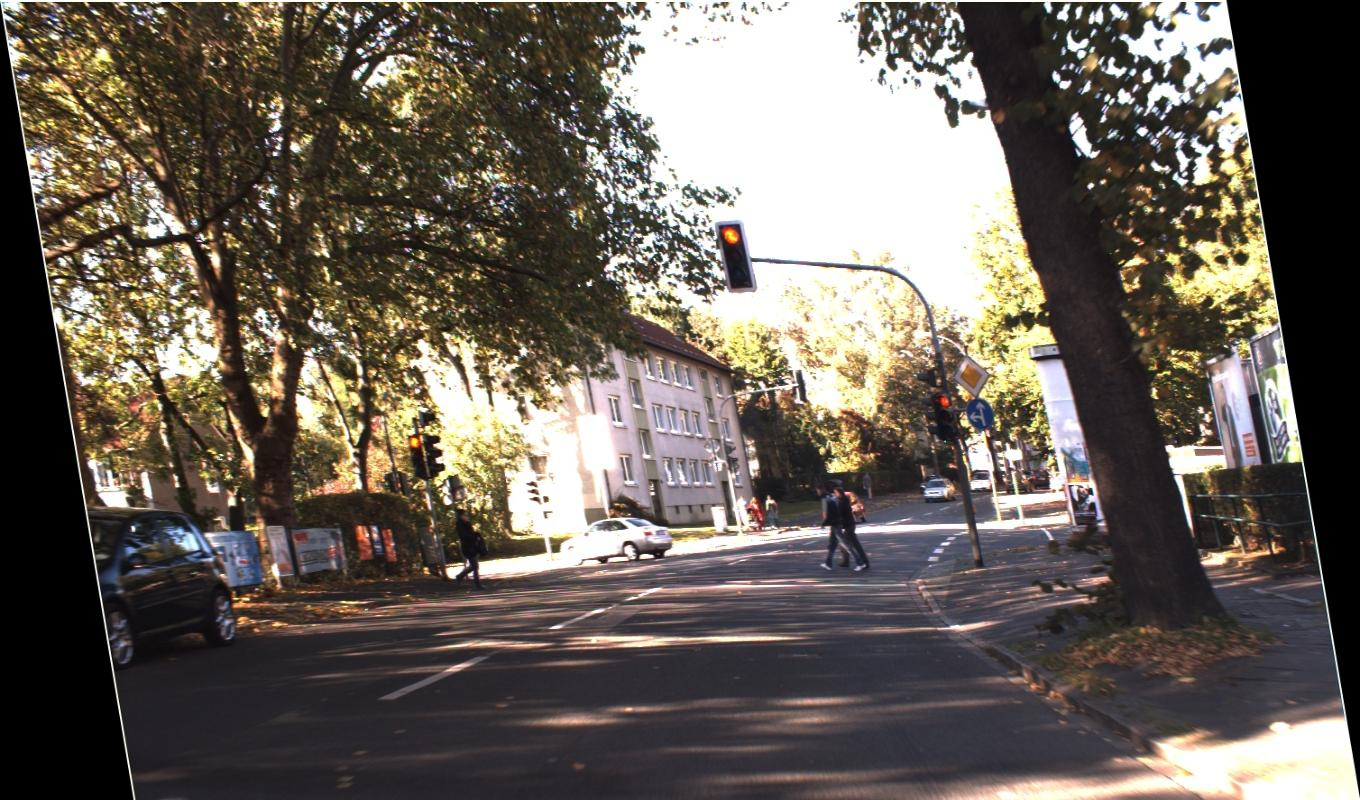go left or straight: (947, 354, 995, 430)
